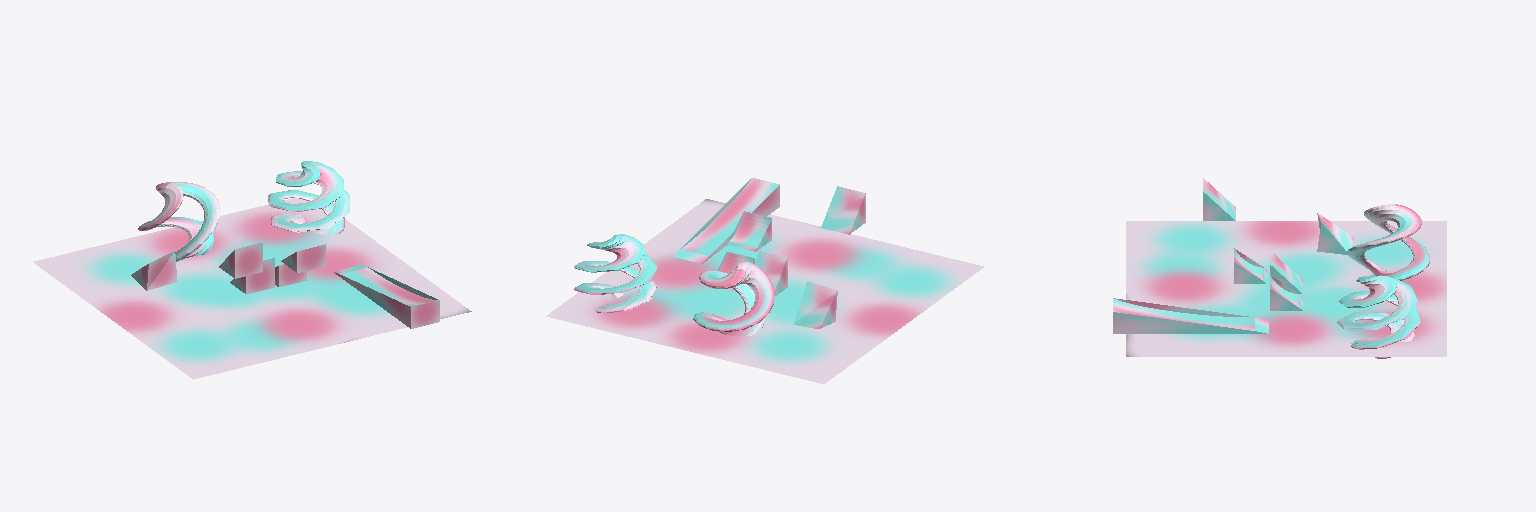
The picture shows the model from 3 angles: view 1: azimuth 30°, elevation 25°; view 2: azimuth 150°, elevation 25°; view 3: azimuth 270°, elevation 25°; orthographic projection.
Visible parts, largest first — view 1: Plane_Plane.001, Torus.001, Cube.004_Cube.007, Torus, Cube.005_Cube.008, Cube.003_Cube.006, Cube_Cube.002, Cube.002_Cube.005; view 2: Plane_Plane.001, Torus.001, Torus, Cube.004_Cube.007, Cube.003_Cube.006, Cube.005_Cube.008, Cube.002_Cube.005, Cube_Cube.002; view 3: Plane_Plane.001, Cube.004_Cube.007, Torus.001, Torus, Cube.005_Cube.008, Cube.003_Cube.006, Cube.001_Cube.004, Cube.002_Cube.005, Cube_Cube.002.
Part boxes in pixels (left/top/right/bottom): Plane_Plane.001: left=33, top=198, right=471, bottom=379; Torus.001: left=268, top=161, right=349, bottom=235; Cube.004_Cube.007: left=334, top=265, right=439, bottom=328; Torus: left=138, top=182, right=219, bottom=261; Cube.005_Cube.008: left=131, top=251, right=176, bottom=290; Cube.003_Cube.006: left=219, top=243, right=262, bottom=278; Cube_Cube.002: left=230, top=258, right=274, bottom=294; Cube.002_Cube.005: left=281, top=244, right=325, bottom=272; Plane_Plane.001: left=546, top=199, right=983, bottom=383; Torus.001: left=574, top=234, right=657, bottom=312; Torus: left=693, top=262, right=774, bottom=335; Cube.004_Cube.007: left=674, top=178, right=779, bottom=263; Cube.003_Cube.006: left=821, top=186, right=865, bottom=234; Cube.005_Cube.008: left=793, top=281, right=837, bottom=328; Cube.002_Cube.005: left=728, top=211, right=771, bottom=251; Cube_Cube.002: left=748, top=251, right=787, bottom=296; Plane_Plane.001: left=1126, top=221, right=1446, bottom=356; Cube.004_Cube.007: left=1113, top=298, right=1268, bottom=333; Torus.001: left=1337, top=275, right=1422, bottom=358; Torus: left=1347, top=204, right=1429, bottom=280; Cube.005_Cube.008: left=1317, top=212, right=1353, bottom=254; Cube.003_Cube.006: left=1203, top=178, right=1235, bottom=220; Cube.001_Cube.004: left=1270, top=275, right=1302, bottom=310; Cube.002_Cube.005: left=1234, top=248, right=1266, bottom=283; Cube_Cube.002: left=1270, top=251, right=1302, bottom=293.
Bounding box in the file's own units: 344 × 116 × 356.
1 materials, 1 textured.